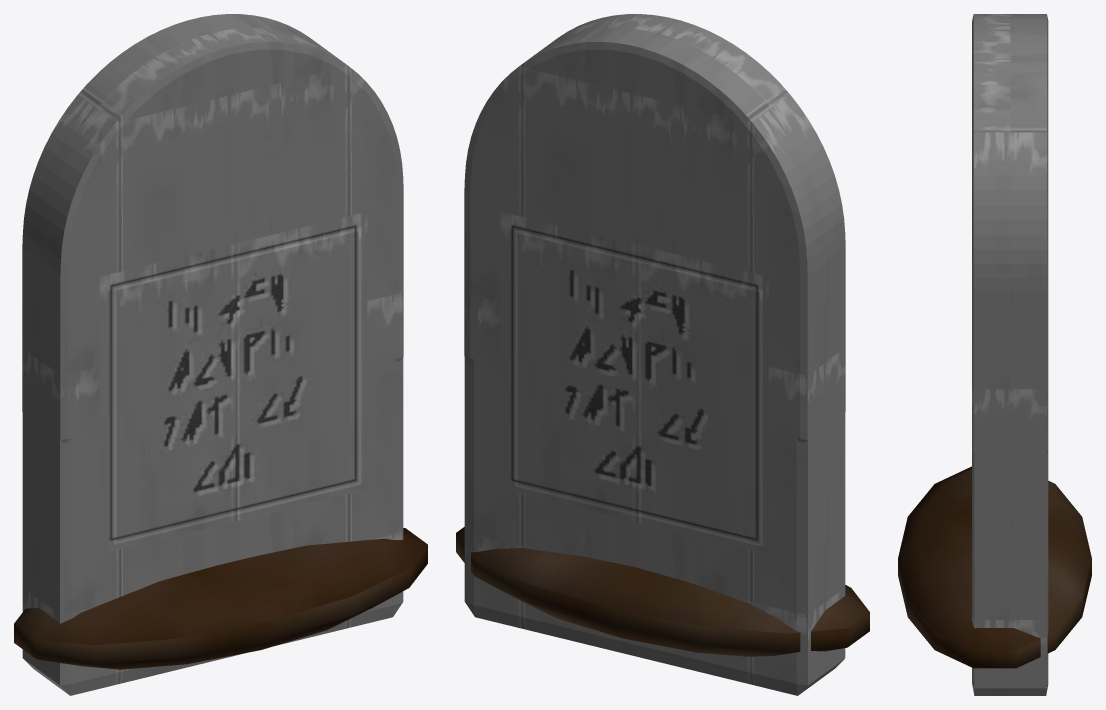
File: tstone1.glb
The picture shows the model from 3 angles, left to right: view 1: azimuth 30°, elevation 25°; view 2: azimuth 150°, elevation 25°; view 3: azimuth 270°, elevation 25°; orthographic projection. The views are drawn at different scales.
Visible parts, largest first — view 1: box; view 2: box; view 3: box.
Boxes of the visible parts, bbox=[...] form: box: bbox=[14, 14, 427, 695]; box: bbox=[456, 14, 869, 695]; box: bbox=[898, 14, 1091, 695].
Size of the model in its own units: 2.13 by 3.17 by 0.9462.
Materials: 4 (4 with a texture image).
